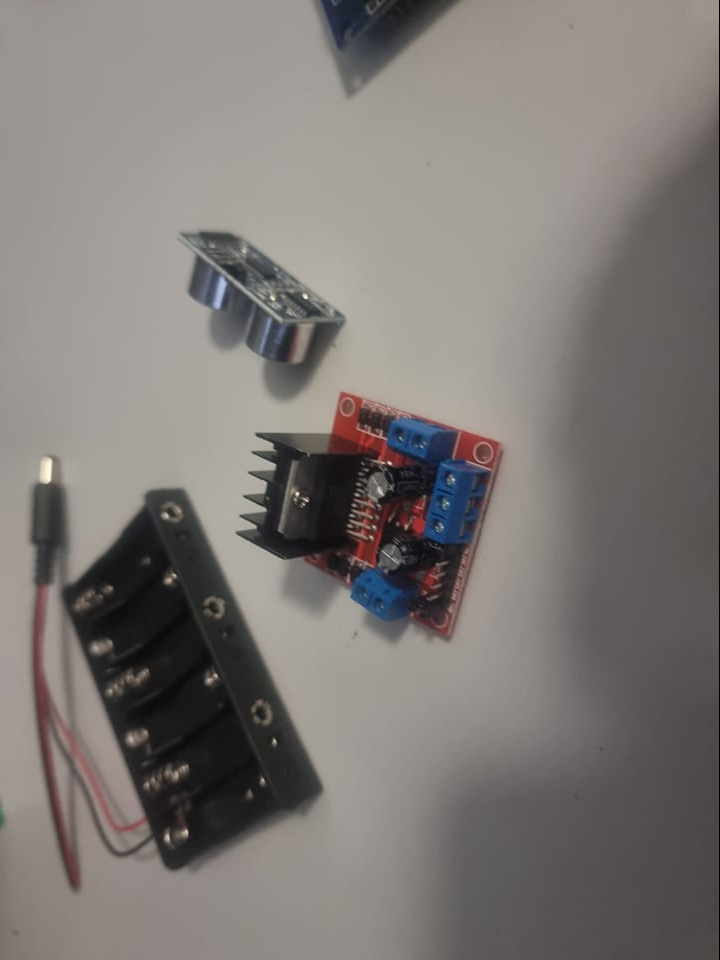BATTERY BOX: (61, 489, 332, 872)
MOTOR: (237, 396, 508, 648)
SENSOR: (175, 228, 348, 366)
